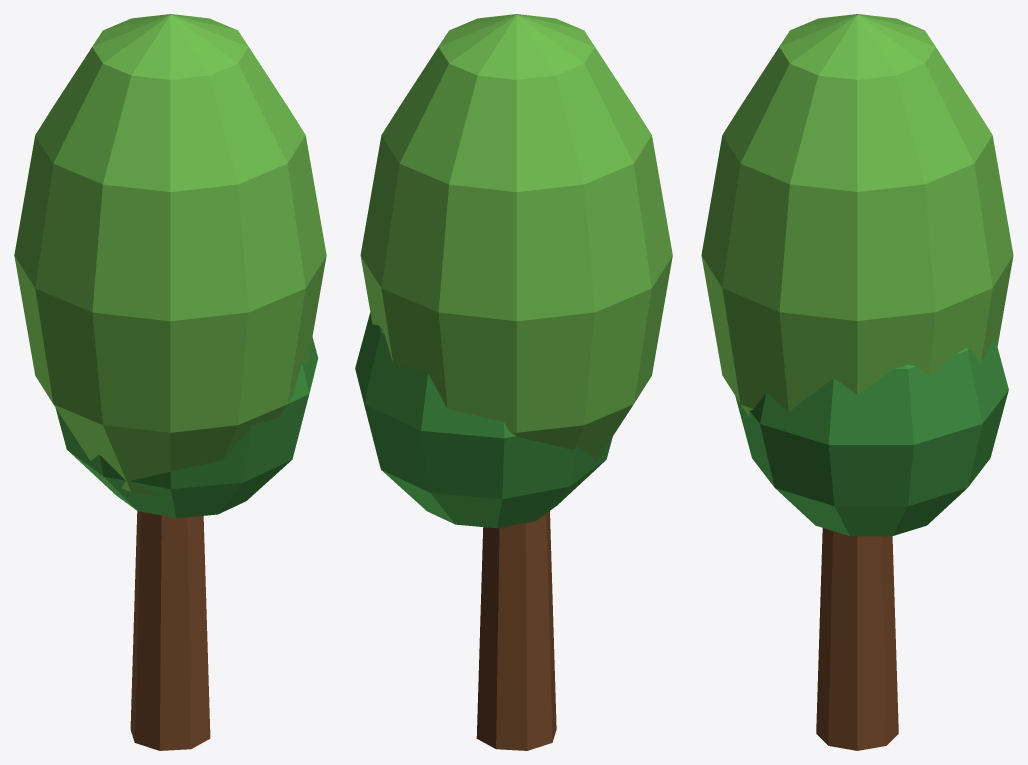
The model's file is tree_avenue.glb.
3 views of the same model, side by side, from view 1: azimuth 30°, elevation 25°; view 2: azimuth 150°, elevation 25°; view 3: azimuth 270°, elevation 25° (orthographic).
Visible parts, largest first — view 1: tree_avenue; view 2: tree_avenue; view 3: tree_avenue.
Boxes of the visible parts, <box> form: tree_avenue: <box>14,14,326,750</box>; tree_avenue: <box>355,14,672,750</box>; tree_avenue: <box>701,14,1013,750</box>.
Bounding box in the file's own units: 0.68 × 1.73 × 0.68.
